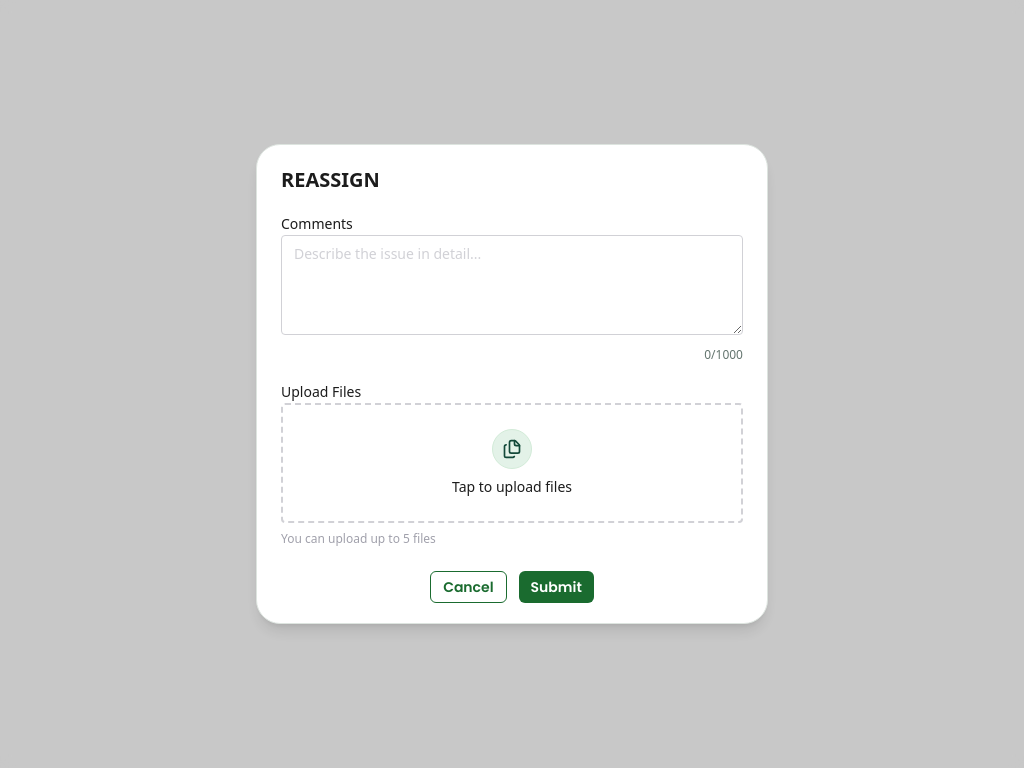
ComplaintActionDialog › submission outcome › falls back to the response's top-level message when there are no Errors
Step 1. Click the button "Submit" → (556, 587), box [519,571,594,603]
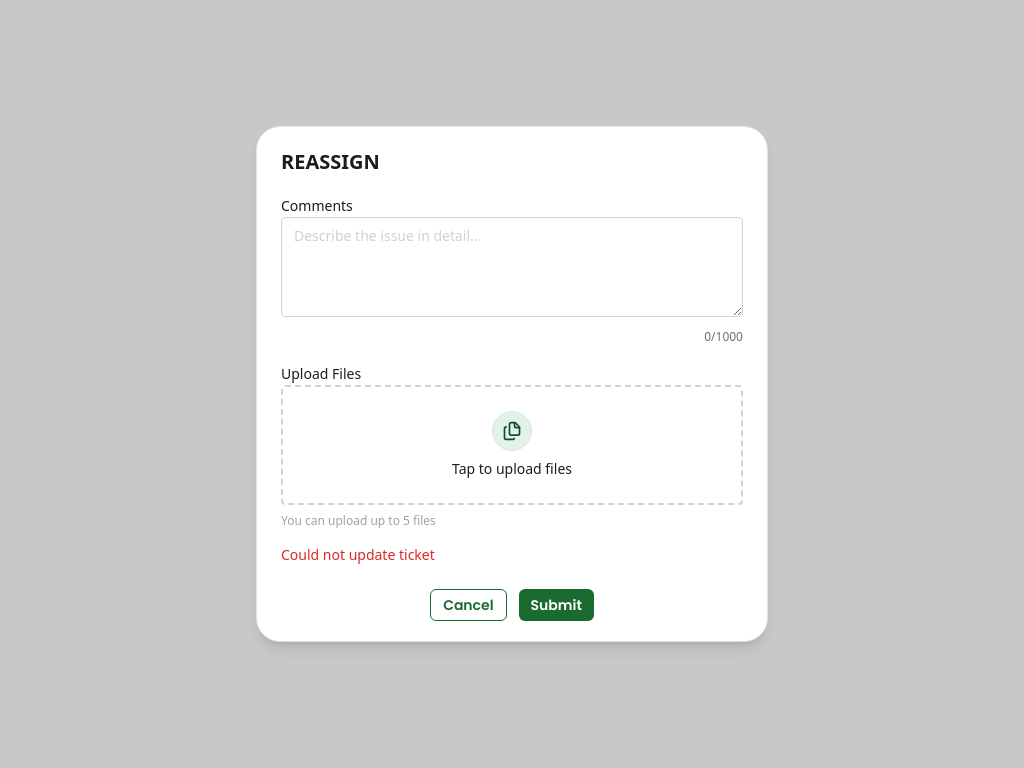
Now the text "Could not update ticket" is shown, box [281,545,435,564]
